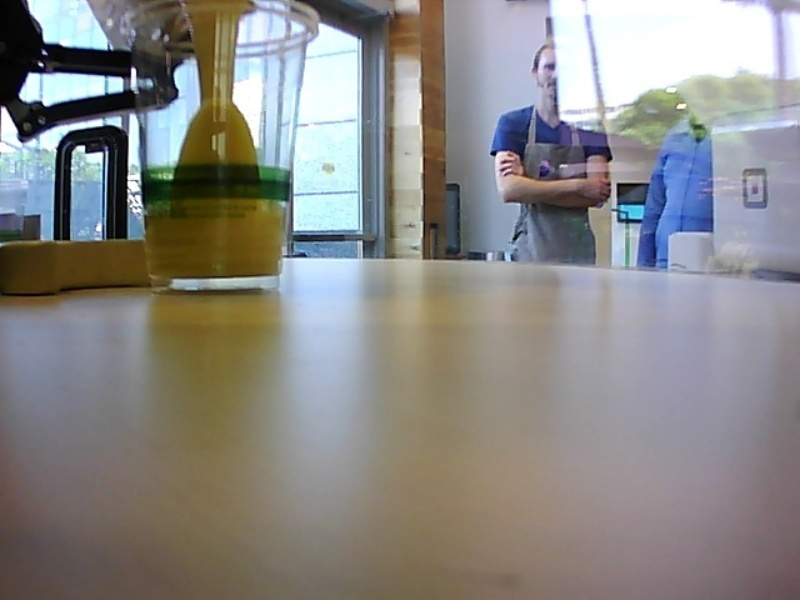cup: (118, 6, 324, 300)
limit: (140, 189, 291, 226)
